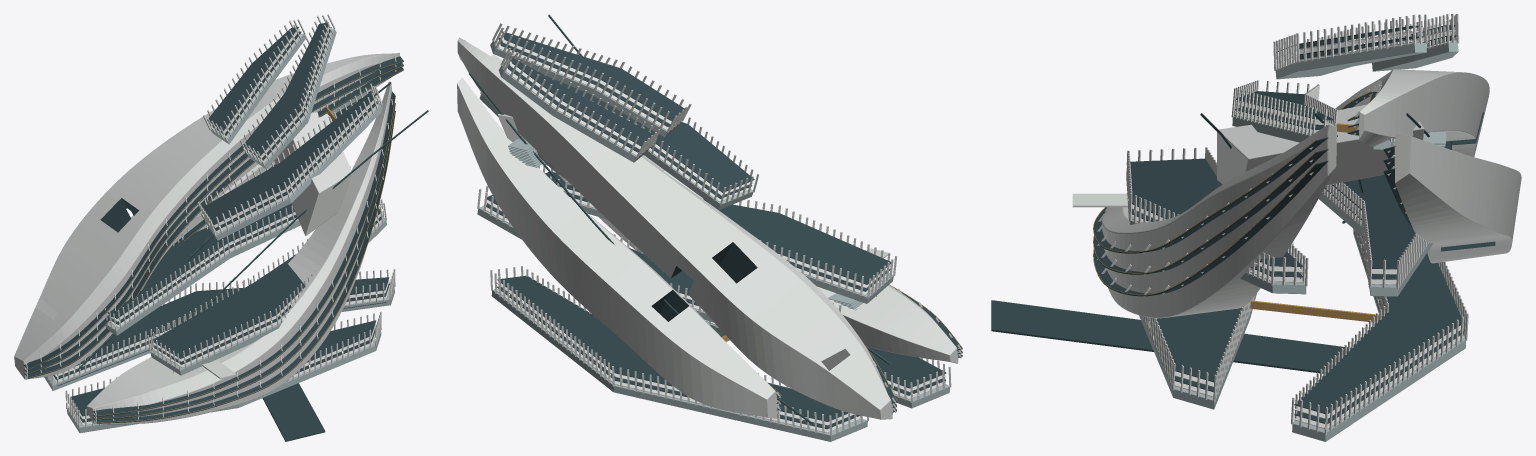
Rendered from R11_B_REFINED.glb.
3 renders of one model, left to right at view 1: azimuth 30°, elevation 25°; view 2: azimuth 150°, elevation 25°; view 3: azimuth 270°, elevation 25°, orthographic. The views are drawn at different scales.
Visible parts, largest first — view 1: R01 | ascending inhabited western fold, R02 | front continent fractures upward, R02 | front continent fractures upward / recessed promenade  (×3), R01 | ascending inhabited western fold / recessed promenade  (×3), B03 | sunward occupied urban layer 2.5, B03 | sunward occupied urban layer 4.5, R04 | civic vault inhabited cross-continent, B03 | landward occupied urban layer 0.5, B03 | landward occupied urban layer 2.5, B03 | sunward occupied urban layer 5.5, B40 | ground portal approach, B03 | landward occupied urban layer 5.5 (+25 smaller); view 2: R01 | ascending inhabited western fold, R03 | back return living cliff, B03 | landward occupied urban layer 0.5, R02 | front continent fractures upward, B03 | sunward occupied urban layer 2.5, B01 | landward tectonic plinth 0, B03 | sunward occupied urban layer 4.5, B03 | sunward occupied urban layer 5.5, B03 | landward occupied urban layer 5.5, B03 | sunward occupied urban layer 0.5, B01 | landward tectonic plinth 5, B01 | sunward tectonic plinth 5 (+14 smaller); view 3: R02 | front continent fractures upward, R03 | back return living cliff, B03 | landward occupied urban layer 0.5, R01 | ascending inhabited western fold, B40 | ground portal approach, R04 | civic vault inhabited cross-continent, R02 | front continent fractures upward / recessed promenade  (×3), B03 | sunward occupied urban layer 2.5, B03 | sunward occupied urban layer 0.5, B03 | landward occupied urban layer 2.5, B01 | sunward tectonic plinth 5, B01 | landward tectonic plinth 0 (+11 smaller).
Boxes of the visible parts, x1=… form: R01 | ascending inhabited western fold: x1=14, y1=52, x2=399, y2=379; R02 | front continent fractures upward: x1=86, y1=81, x2=391, y2=424; R02 | front continent fractures upward / recessed promenade  (×3): x1=93, y1=91, x2=395, y2=423; R01 | ascending inhabited western fold / recessed promenade  (×3): x1=24, y1=56, x2=403, y2=378; B03 | sunward occupied urban layer 2.5: x1=153, y1=207, x2=380, y2=358; B03 | sunward occupied urban layer 4.5: x1=202, y1=92, x2=375, y2=224; R04 | civic vault inhabited cross-continent: x1=274, y1=112, x2=352, y2=235; B03 | landward occupied urban layer 0.5: x1=75, y1=277, x2=389, y2=366; B03 | landward occupied urban layer 2.5: x1=107, y1=203, x2=294, y2=318; B03 | sunward occupied urban layer 5.5: x1=244, y1=22, x2=328, y2=155; B40 | ground portal approach: x1=262, y1=383, x2=325, y2=441; B03 | landward occupied urban layer 5.5: x1=207, y1=27, x2=298, y2=130; R01 | ascending inhabited western fold: x1=457, y1=37, x2=892, y2=419; R03 | back return living cliff: x1=457, y1=77, x2=777, y2=418; B03 | landward occupied urban layer 0.5: x1=497, y1=275, x2=847, y2=421; R02 | front continent fractures upward: x1=491, y1=54, x2=958, y2=363; B03 | sunward occupied urban layer 2.5: x1=545, y1=172, x2=890, y2=284; B01 | landward tectonic plinth 0: x1=491, y1=289, x2=867, y2=441; B03 | sunward occupied urban layer 4.5: x1=546, y1=76, x2=754, y2=192; B03 | sunward occupied urban layer 5.5: x1=502, y1=31, x2=684, y2=121; B03 | landward occupied urban layer 5.5: x1=510, y1=56, x2=653, y2=146; B03 | sunward occupied urban layer 0.5: x1=867, y1=346, x2=946, y2=388; B01 | landward tectonic plinth 5: x1=498, y1=65, x2=650, y2=162; B01 | sunward tectonic plinth 5: x1=490, y1=40, x2=681, y2=137; R02 | front continent fractures upward: x1=1101, y1=124, x2=1337, y2=318; R03 | back return living cliff: x1=1394, y1=133, x2=1521, y2=263; B03 | landward occupied urban layer 0.5: x1=1294, y1=236, x2=1463, y2=414; R01 | ascending inhabited western fold: x1=1335, y1=69, x2=1489, y2=156; B40 | ground portal approach: x1=991, y1=300, x2=1347, y2=373; R04 | civic vault inhabited cross-continent: x1=1217, y1=104, x2=1424, y2=185; R02 | front continent fractures upward / recessed promenade  (×3): x1=1093, y1=137, x2=1328, y2=296; B03 | sunward occupied urban layer 2.5: x1=1130, y1=158, x2=1303, y2=266; B03 | sunward occupied urban layer 0.5: x1=1156, y1=308, x2=1241, y2=382; B03 | landward occupied urban layer 2.5: x1=1332, y1=174, x2=1415, y2=269; B01 | sunward tectonic plinth 5: x1=1275, y1=43, x2=1426, y2=79; B01 | landward tectonic plinth 0: x1=1292, y1=230, x2=1465, y2=441.
Size of the model in its own units: 6008 by 4464 by 4894.
